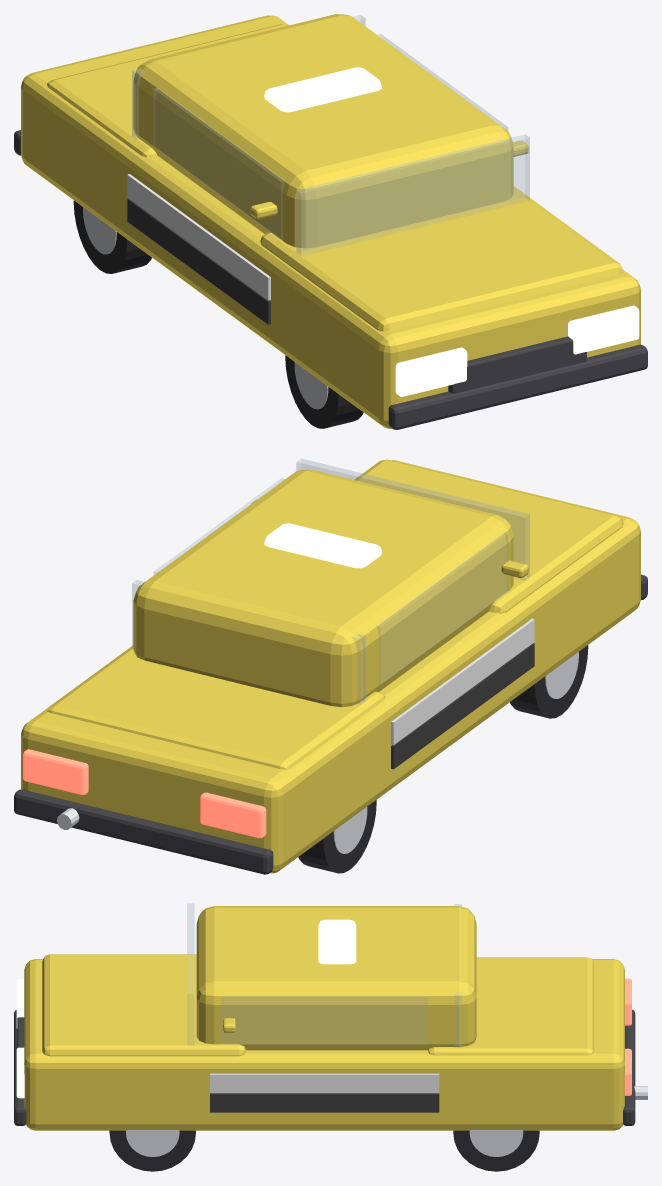
Rendered from car_taxi.glb.
3 renders of one model, top to bottom at view 1: azimuth 30°, elevation 25°; view 2: azimuth 150°, elevation 25°; view 3: azimuth 270°, elevation 25°, orthographic. The views are drawn at different scales.
Visible parts, largest first — view 1: car_taxi_cabin, car_taxi_body_lower, car_taxi_bonnet, car_taxi_glass_front, car_taxi_glass_side_l, car_taxi_bumper_front, car_taxi_boot, car_taxi_grille, car_taxi_roof_sign, car_taxi_headlight_l, car_taxi_headlight_r, tyre_fl (+16 smaller); view 2: car_taxi_cabin, car_taxi_body_lower, car_taxi_boot, car_taxi_bonnet, car_taxi_glass_side_l, car_taxi_bumper_rear, car_taxi_roof_sign, car_taxi_glass_front, car_taxi_taillight_l, car_taxi_taillight_r, tyre_fl, tyre_rl (+15 smaller); view 3: car_taxi_body_lower, car_taxi_cabin, car_taxi_bonnet, car_taxi_boot, car_taxi_glass_side_r, tyre_fr, tyre_rr, car_taxi_roof_sign, hub_rr, hub_fr, car_taxi_glass_front, car_taxi_bumper_rear (+15 smaller).
Boxes of the visible parts, x1,y1,x2,y2 form: car_taxi_cabin: (133, 14, 513, 248); car_taxi_body_lower: (21, 15, 640, 428); car_taxi_bonnet: (260, 186, 623, 331); car_taxi_glass_front: (296, 134, 529, 255); car_taxi_glass_side_l: (154, 88, 284, 239); car_taxi_bumper_front: (388, 345, 647, 429); car_taxi_boot: (47, 24, 288, 157); car_taxi_grille: (448, 336, 586, 393); car_taxi_roof_sign: (264, 67, 381, 112); car_taxi_headlight_l: (395, 347, 467, 396); car_taxi_headlight_r: (568, 305, 639, 354); tyre_fl: (285, 355, 363, 428); car_taxi_cabin: (133, 469, 513, 707); car_taxi_body_lower: (21, 460, 640, 873); car_taxi_boot: (47, 646, 385, 769); car_taxi_bonnet: (354, 459, 623, 613); car_taxi_glass_side_l: (377, 533, 507, 684); car_taxi_bumper_rear: (14, 789, 273, 874); car_taxi_roof_sign: (264, 523, 381, 568); car_taxi_glass_front: (296, 458, 529, 580); car_taxi_taillight_l: (200, 792, 266, 838); car_taxi_taillight_r: (23, 749, 88, 794); tyre_fl: (510, 645, 588, 718); tyre_rl: (298, 800, 376, 873); car_taxi_body_lower: (24, 959, 624, 1130); car_taxi_cabin: (196, 906, 476, 1050); car_taxi_bonnet: (42, 954, 246, 1056); car_taxi_boot: (428, 957, 593, 1055); car_taxi_glass_side_r: (221, 996, 427, 1043); tyre_fr: (109, 1130, 195, 1171); tyre_rr: (453, 1130, 539, 1171); car_taxi_roof_sign: (318, 919, 356, 964); hub_rr: (469, 1130, 523, 1156); hub_fr: (126, 1130, 179, 1156); car_taxi_glass_front: (187, 903, 194, 1044); car_taxi_bumper_rear: (623, 1009, 635, 1125).
Size of the model in its own units: 2.01 by 1.61 by 4.98.
